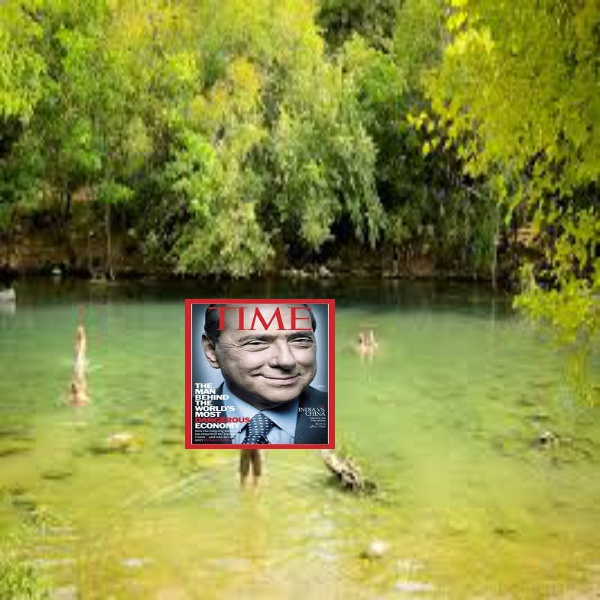time_cover: (177, 289, 336, 457)
